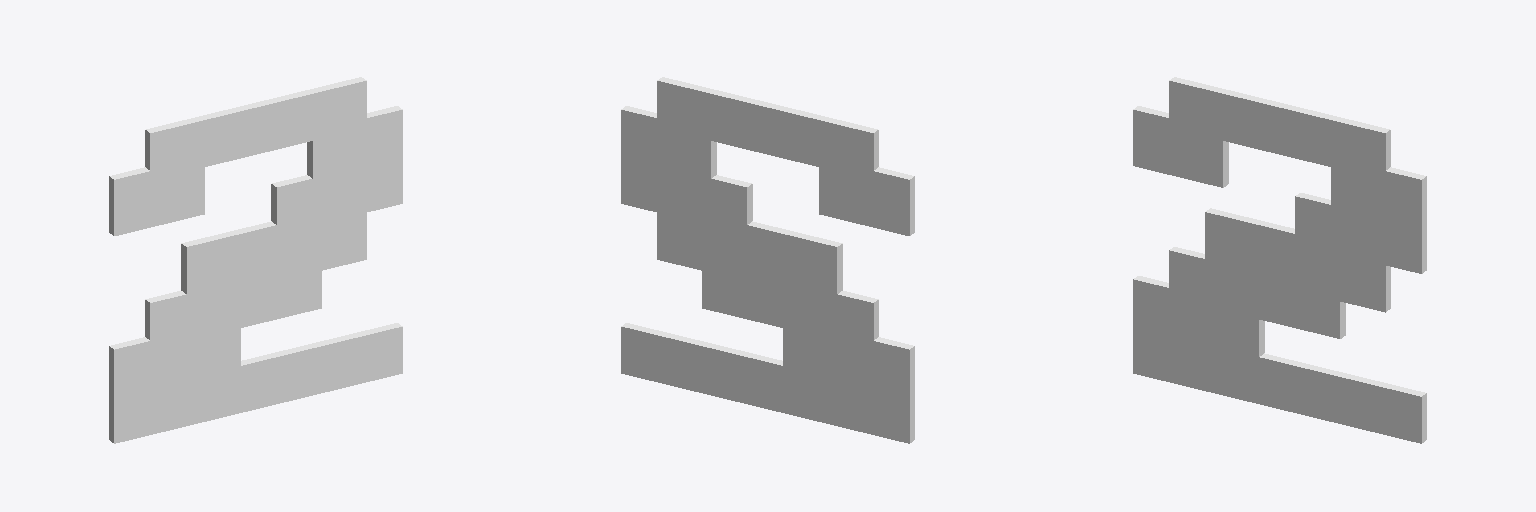
3 renders of one model, left to right at view 1: azimuth 30°, elevation 25°; view 2: azimuth 150°, elevation 25°; view 3: azimuth 330°, elevation 25°, orthographic.
Visible parts, largest first — view 1: ch_2_32; view 2: ch_2_32; view 3: ch_2_32.
Part boxes in pixels (bbox=[...]): ch_2_32: bbox=[109, 77, 402, 443]; ch_2_32: bbox=[621, 77, 914, 443]; ch_2_32: bbox=[1133, 77, 1426, 443].
Bounding box in the file's own units: 32 × 32 × 1.
Materials: 1 (1 with a texture image).